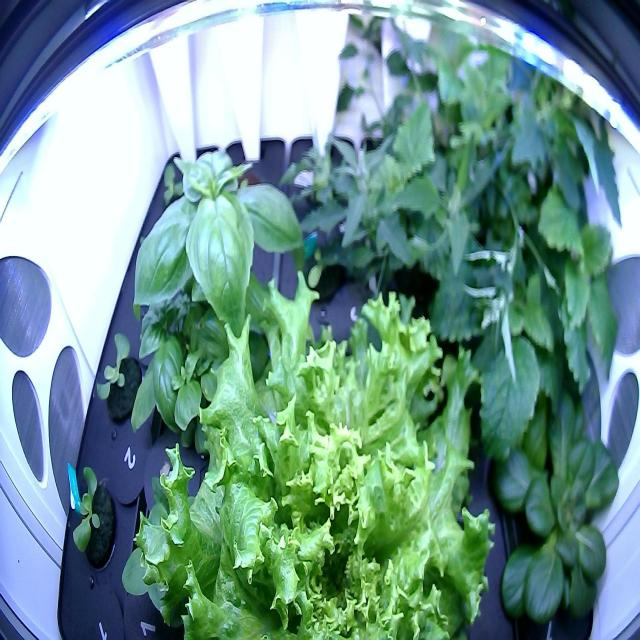young: (471, 347, 630, 639), (63, 455, 122, 578), (91, 326, 149, 435), (293, 236, 354, 310), (156, 144, 196, 214)
